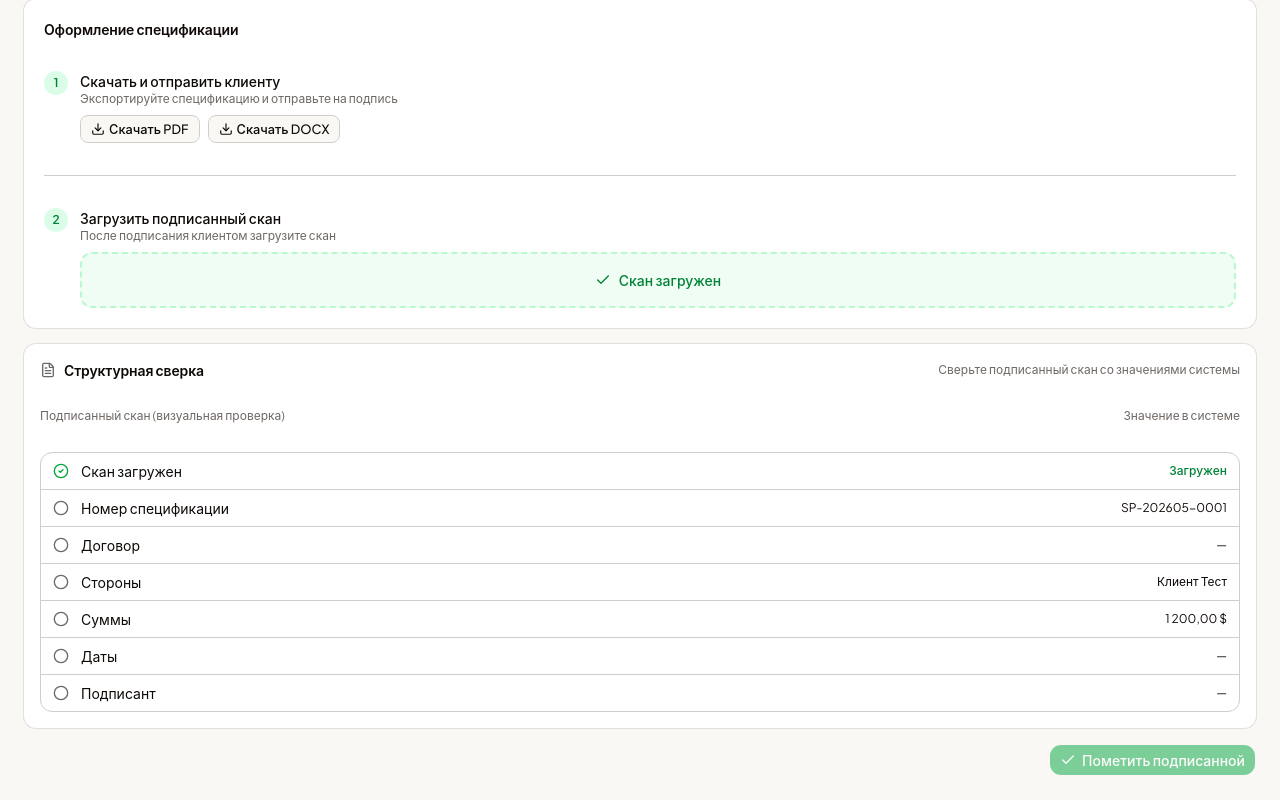
it: SpecificationStep — «На подписании» phase (Req 6–7) › disables «Пометить подписанной» until scan present AND all rows confirmed
(page scrolled)
Expected: the button "Пометить подписанной" is disabled, [1049,744,1256,776]
Step 1. Click the button with aria-label "Подтвердить:" → (155,508), box [41,490,1239,527]
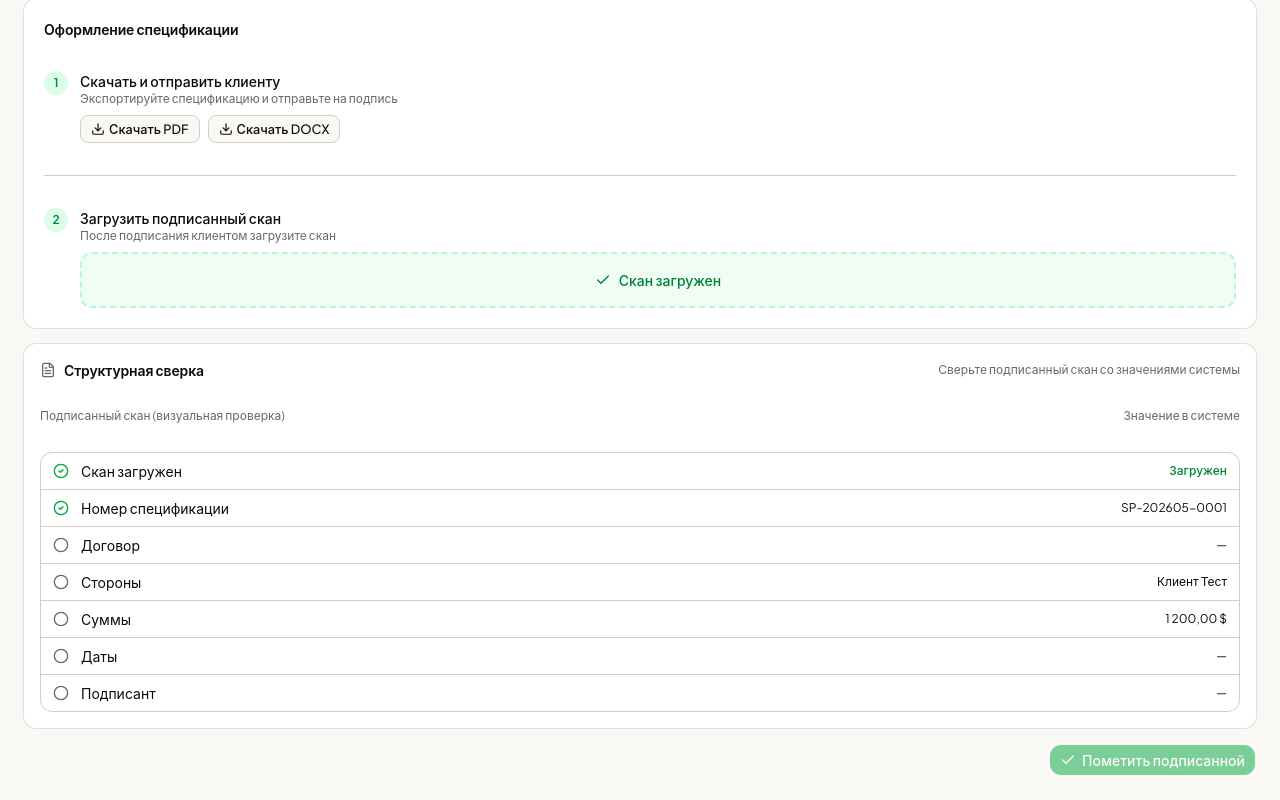
Step 2. Click the button with aria-label "Подтвердить:" → (111,545), box [41,527,1239,564]
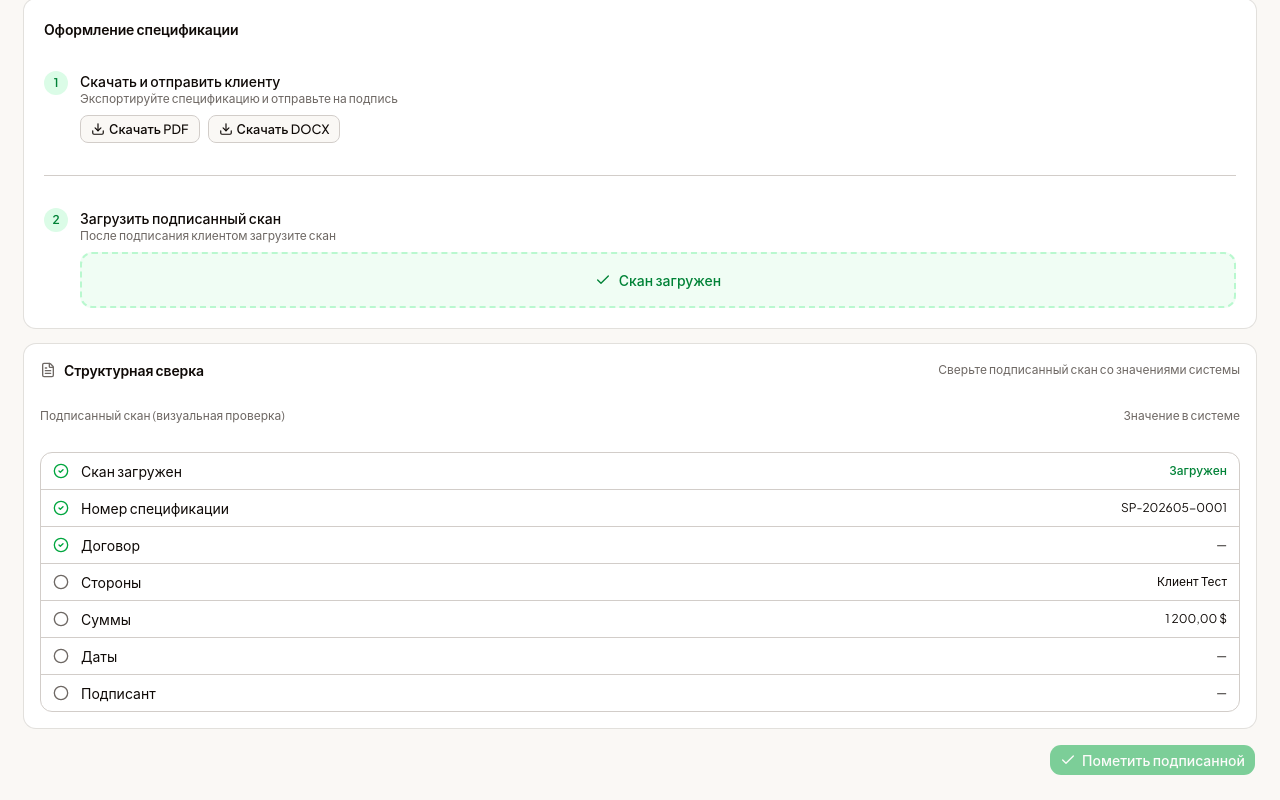
Step 3. Click the button with aria-label "Подтвердить:" → (111,582), box [41,564,1239,601]
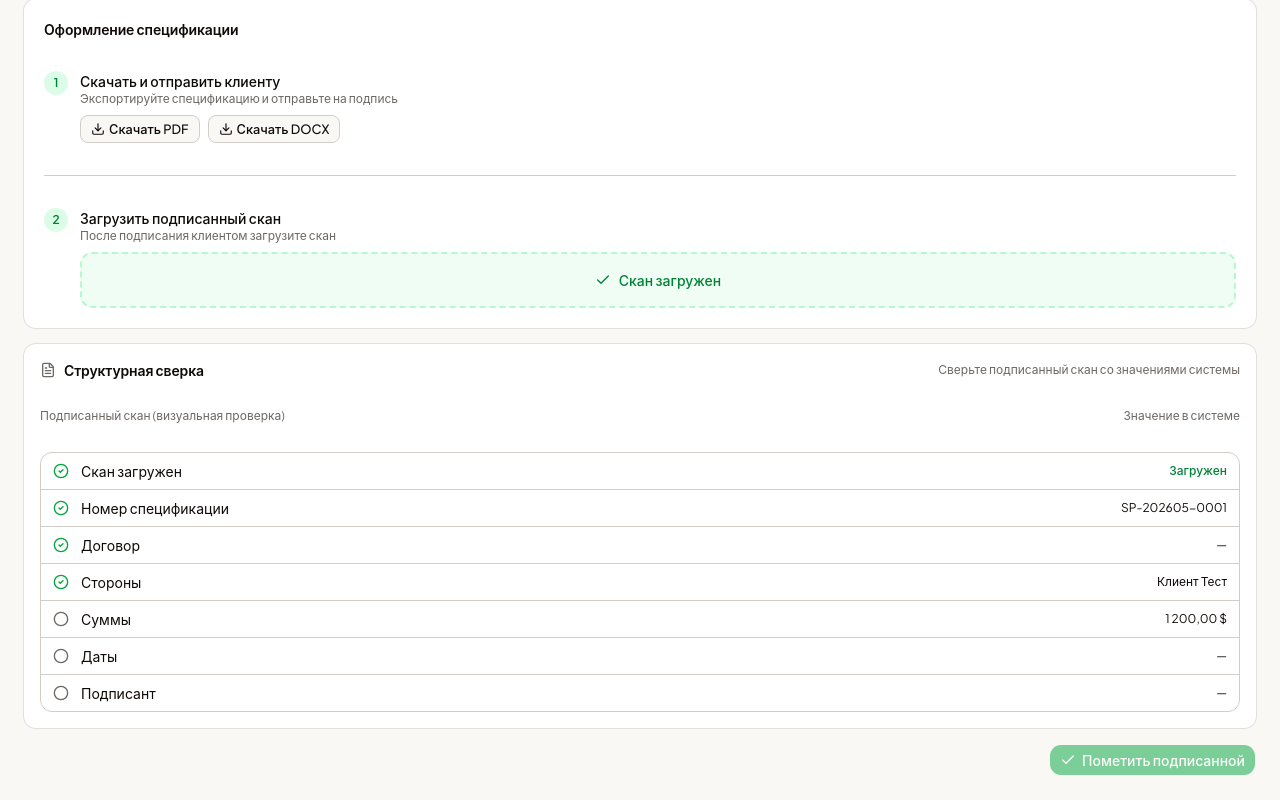
Step 4. Click the button with aria-label "Подтвердить:" → (106,619), box [41,601,1239,638]
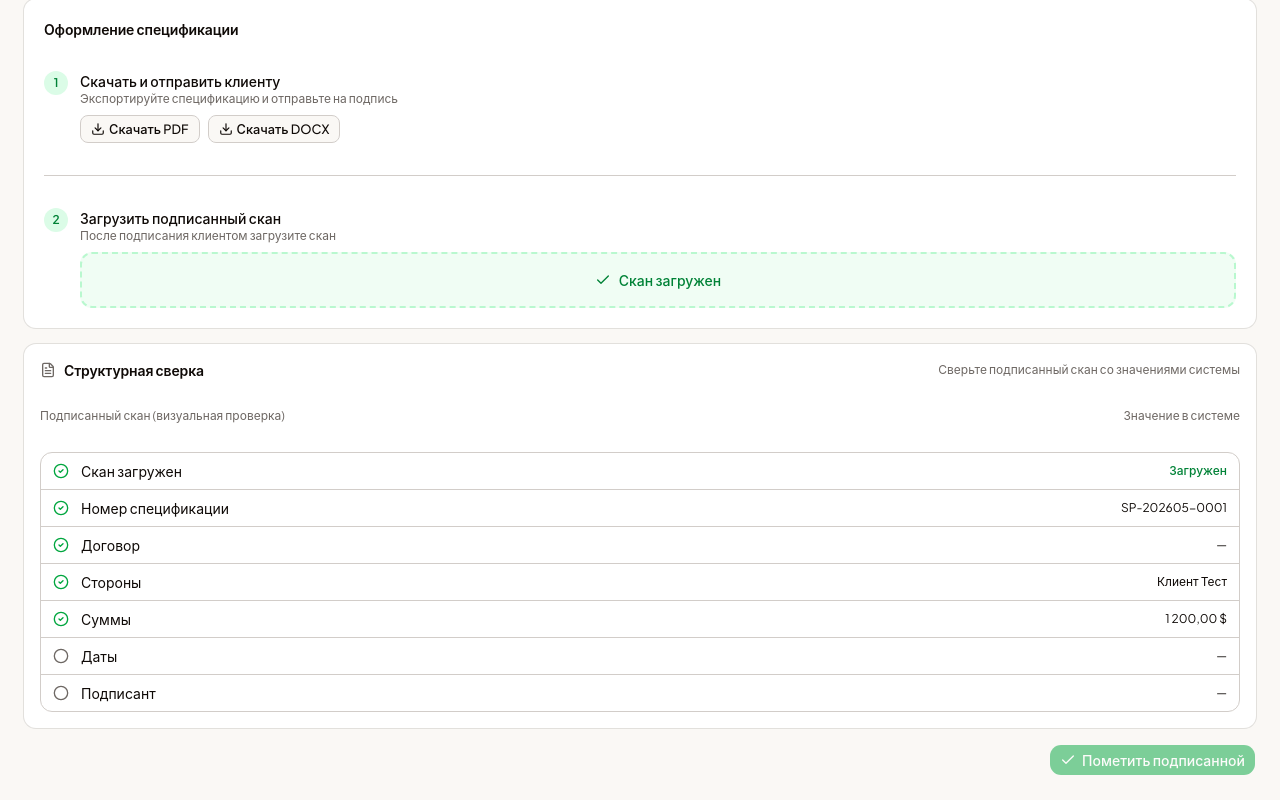
Step 5. Click the button with aria-label "Подтвердить:" → (99,656), box [41,638,1239,675]
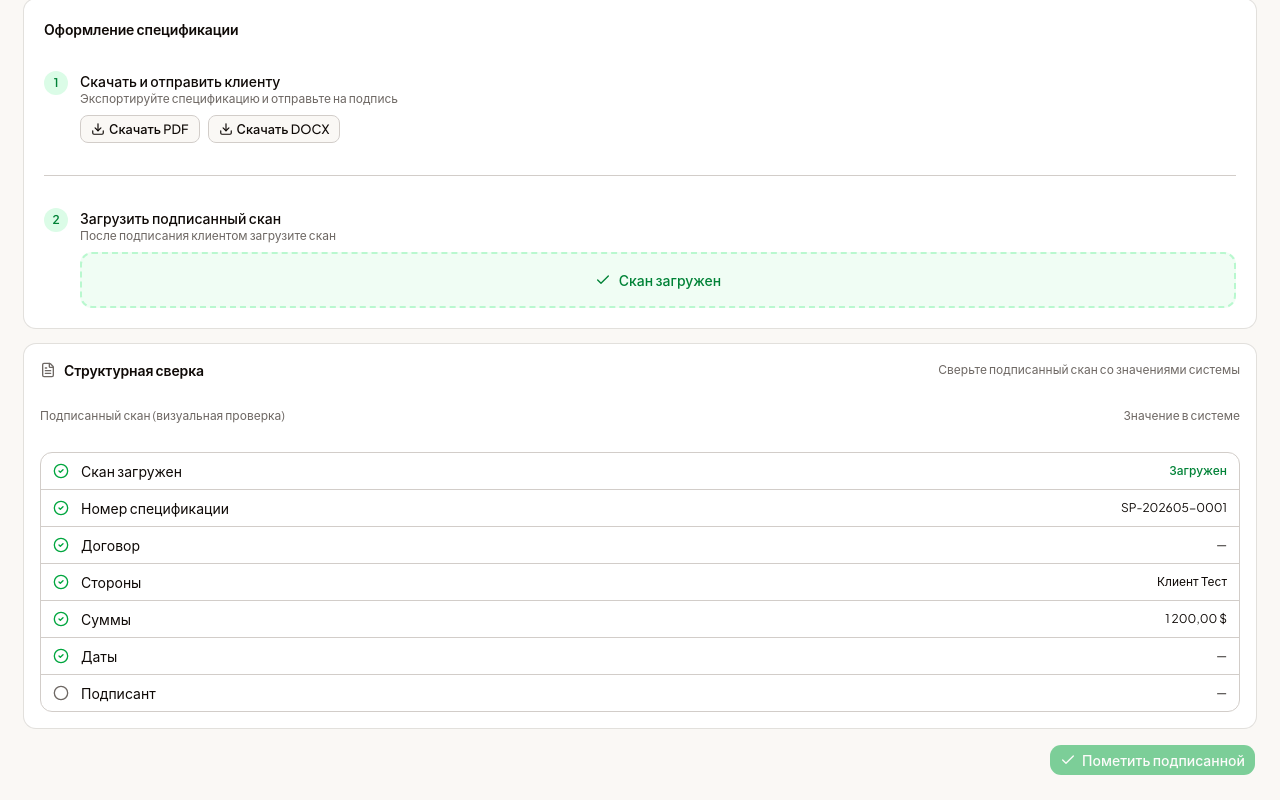
Step 6. Click the button with aria-label "Подтвердить:" → (118,693), box [41,675,1239,711]
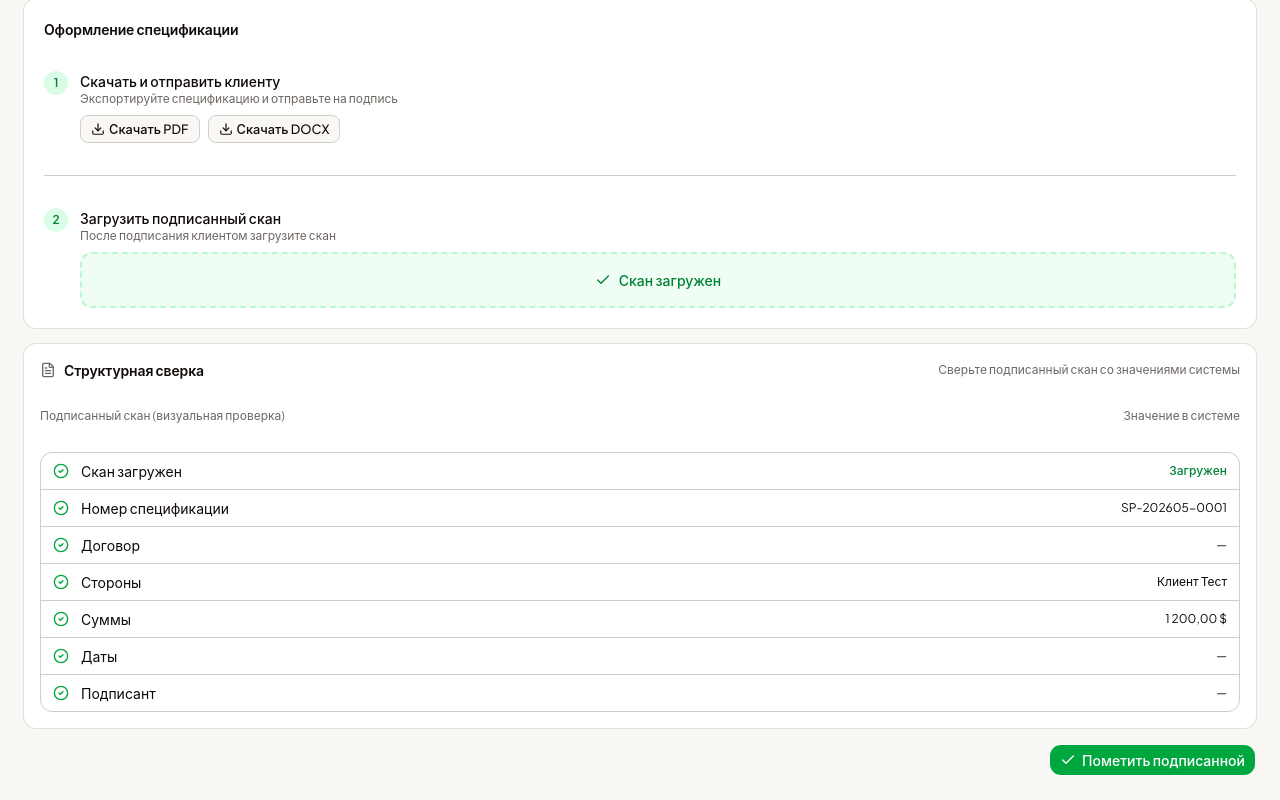
Expected: the button "Пометить подписанной" is enabled, [1049,744,1256,776]
